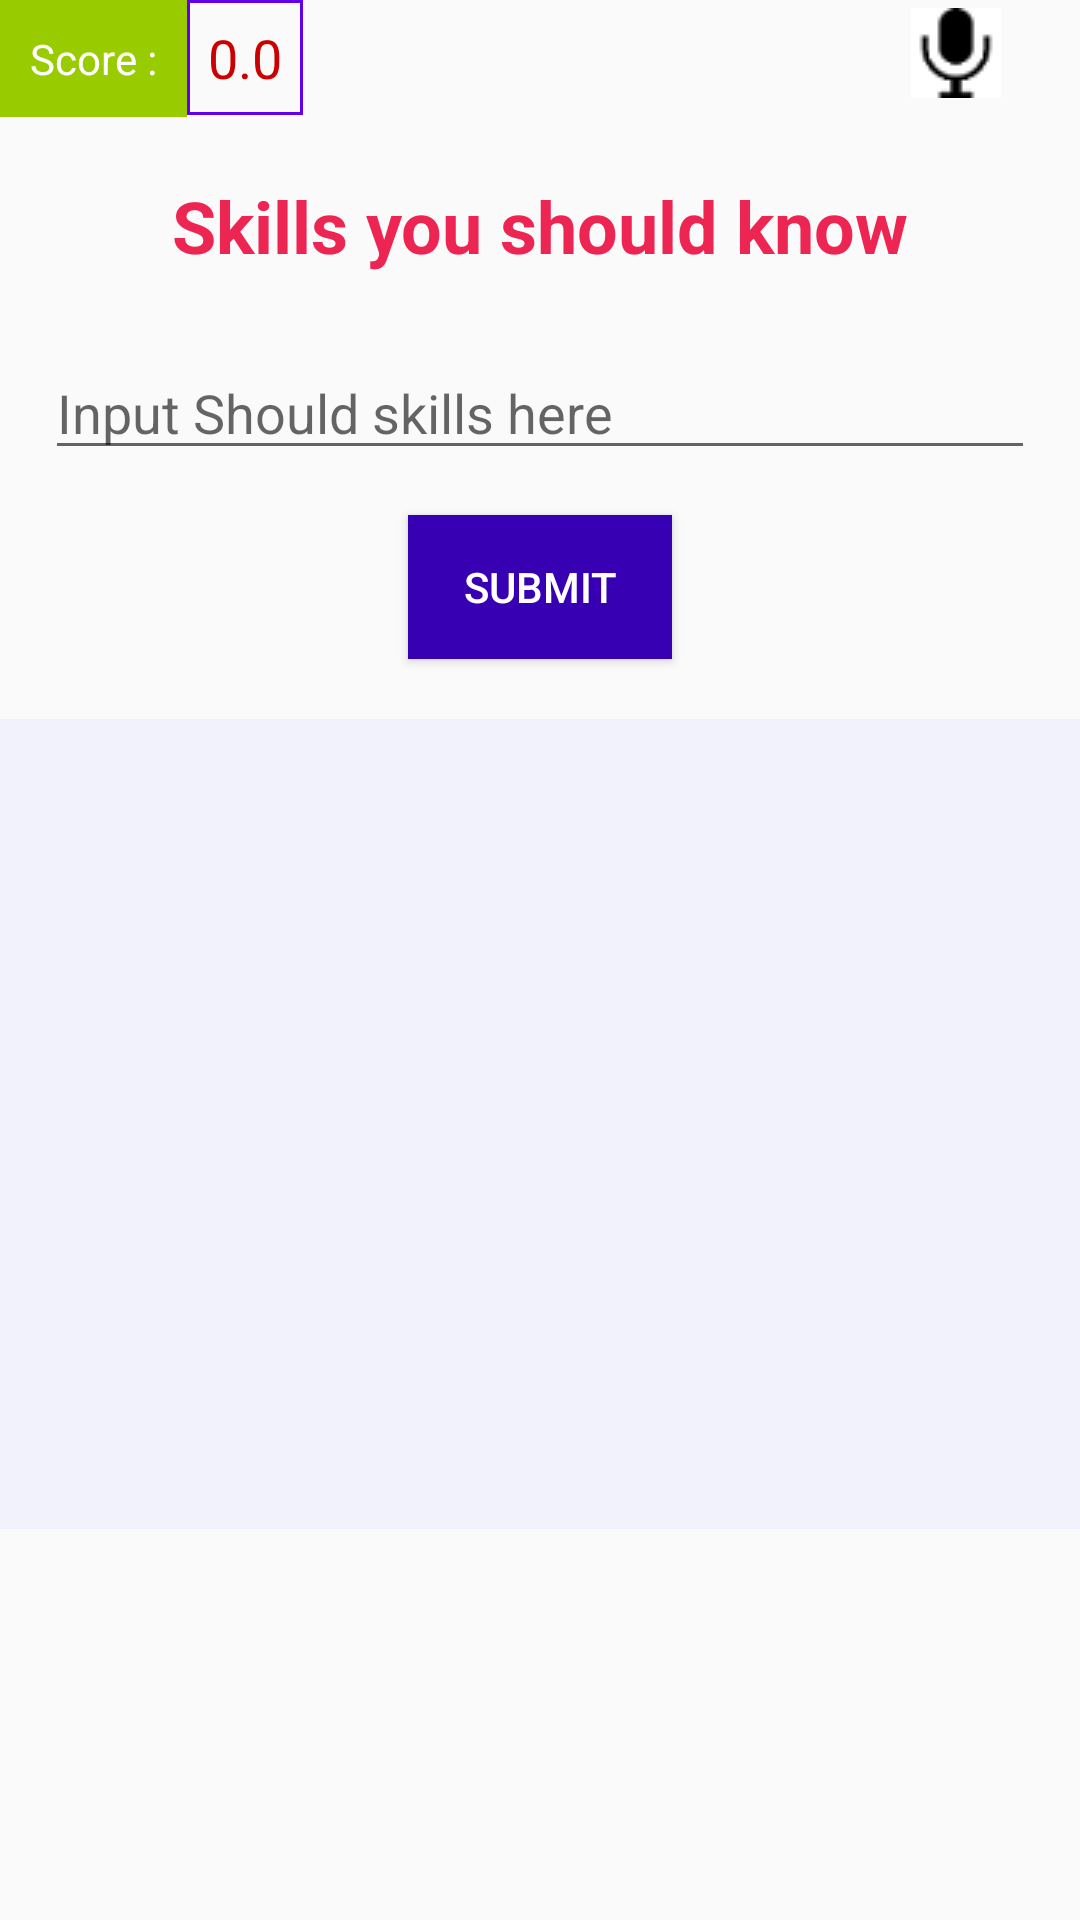

Icons on this 1080x1920 Android screen, each with the point to tap as (x=x, y=y):
micro: (x=956, y=53)
